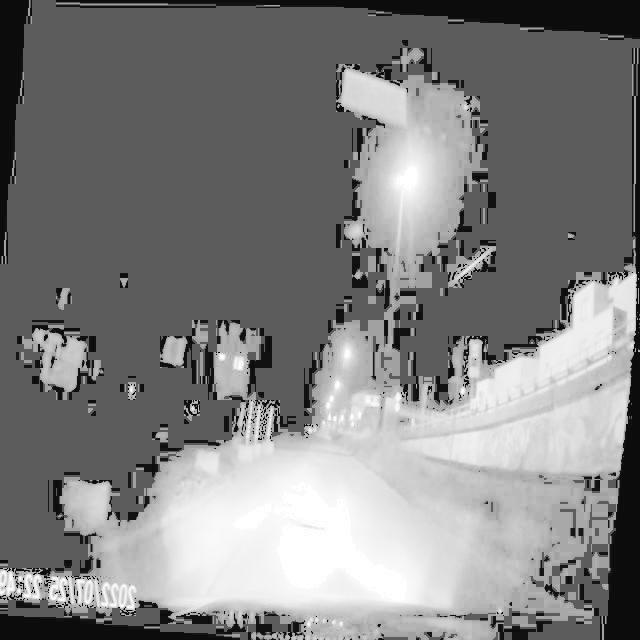Pothole: (284, 489, 336, 539)
